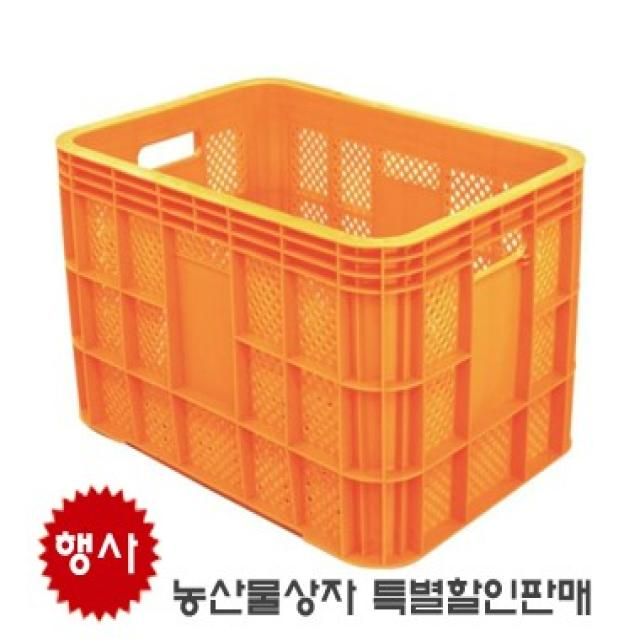basket: (42, 70, 587, 577)
